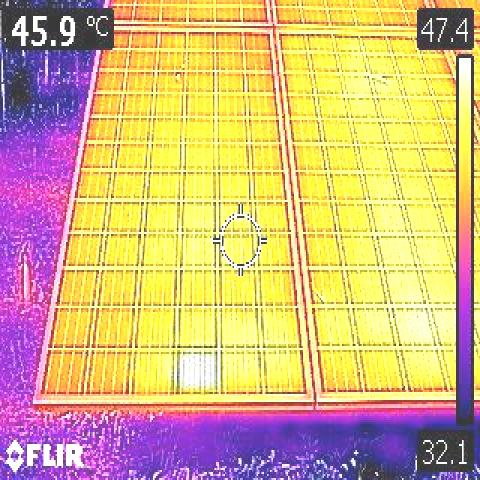fault: (173, 346, 215, 395)
